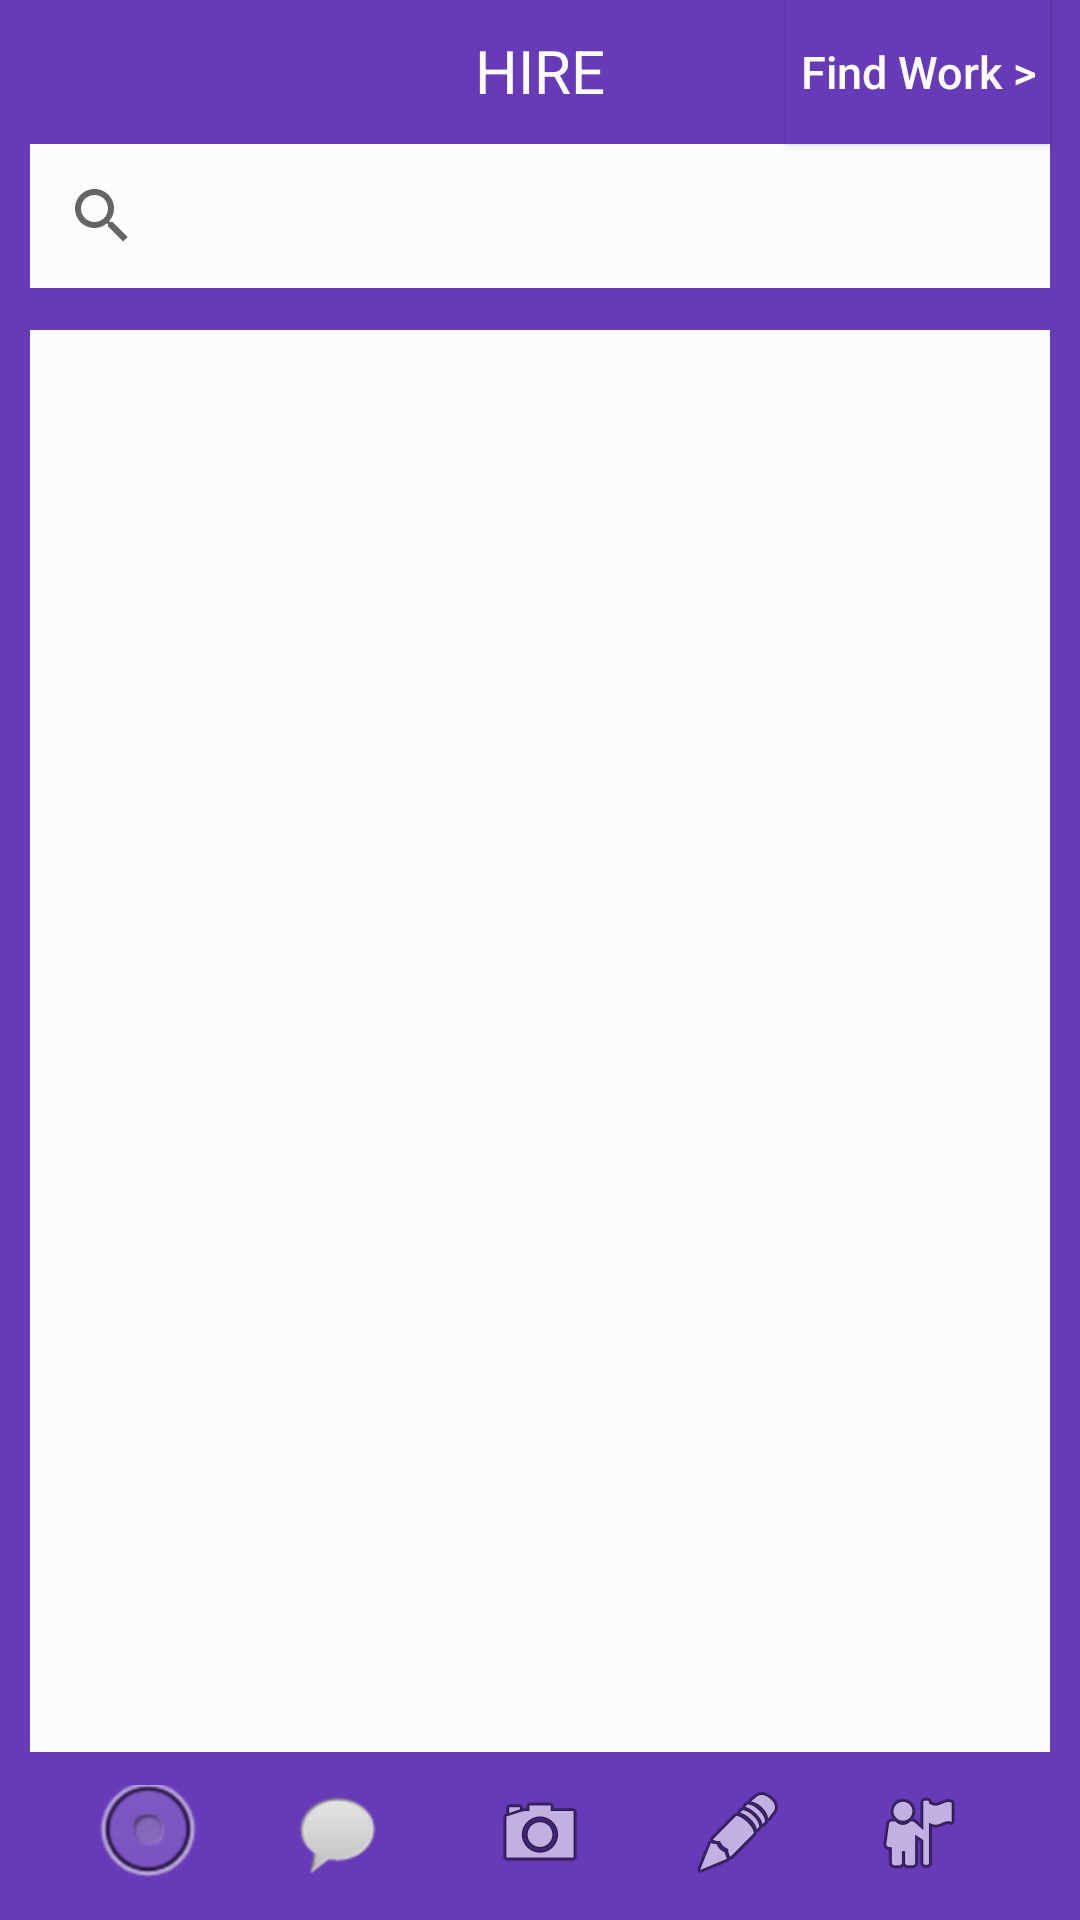

Locate icon controls on the screen. Image size 1080 × 1920, boxes as (x1, y1, x2, y2).
camera: (503, 1802, 577, 1861)
edit: (697, 1792, 778, 1873)
myplaces: (883, 1797, 955, 1869)
radio: (101, 1785, 195, 1876)
sym action chat: (300, 1798, 375, 1873)
